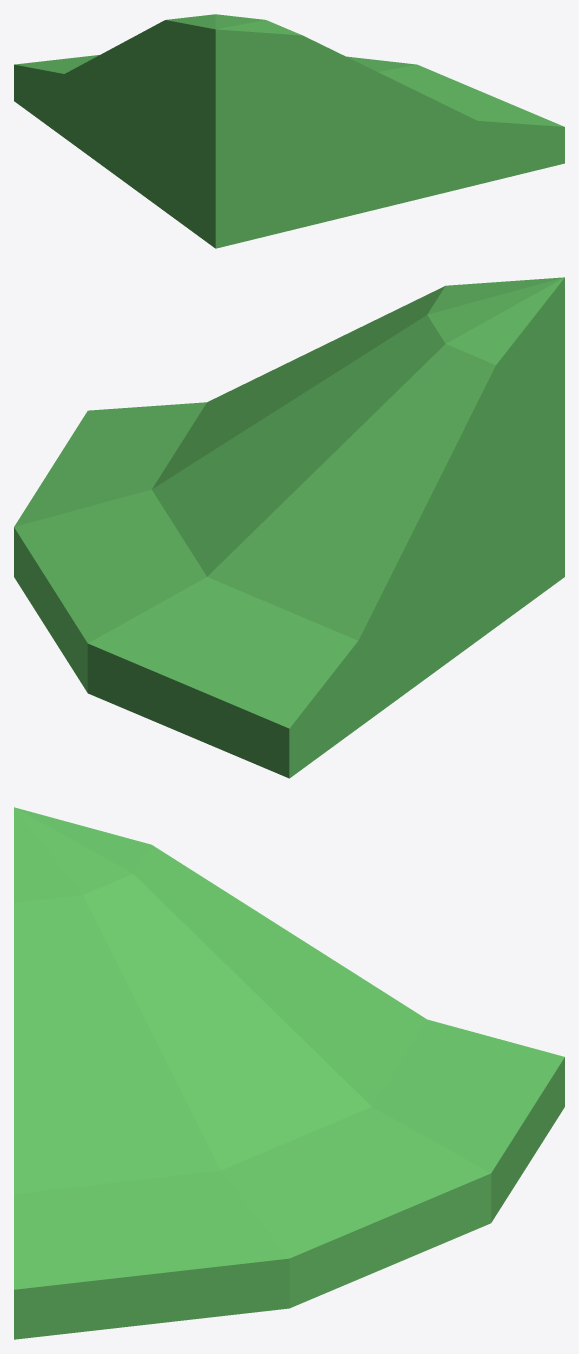
Rendered from Hill_Corner_Outer_2x2.glb.
The picture shows the model from 3 angles, top to bottom: view 1: azimuth 30°, elevation 25°; view 2: azimuth 150°, elevation 25°; view 3: azimuth 270°, elevation 25°; orthographic projection. The views are drawn at different scales.
Parts seen in each view (by area): view 1: object1; view 2: object1; view 3: object1.
Boxes of the visible parts, x1,y1,x2,y2 form: object1: (14,14,564,248); object1: (14,277,564,778); object1: (14,807,564,1339).
Bounding box in the file's own units: 2 × 1.2 × 2.
